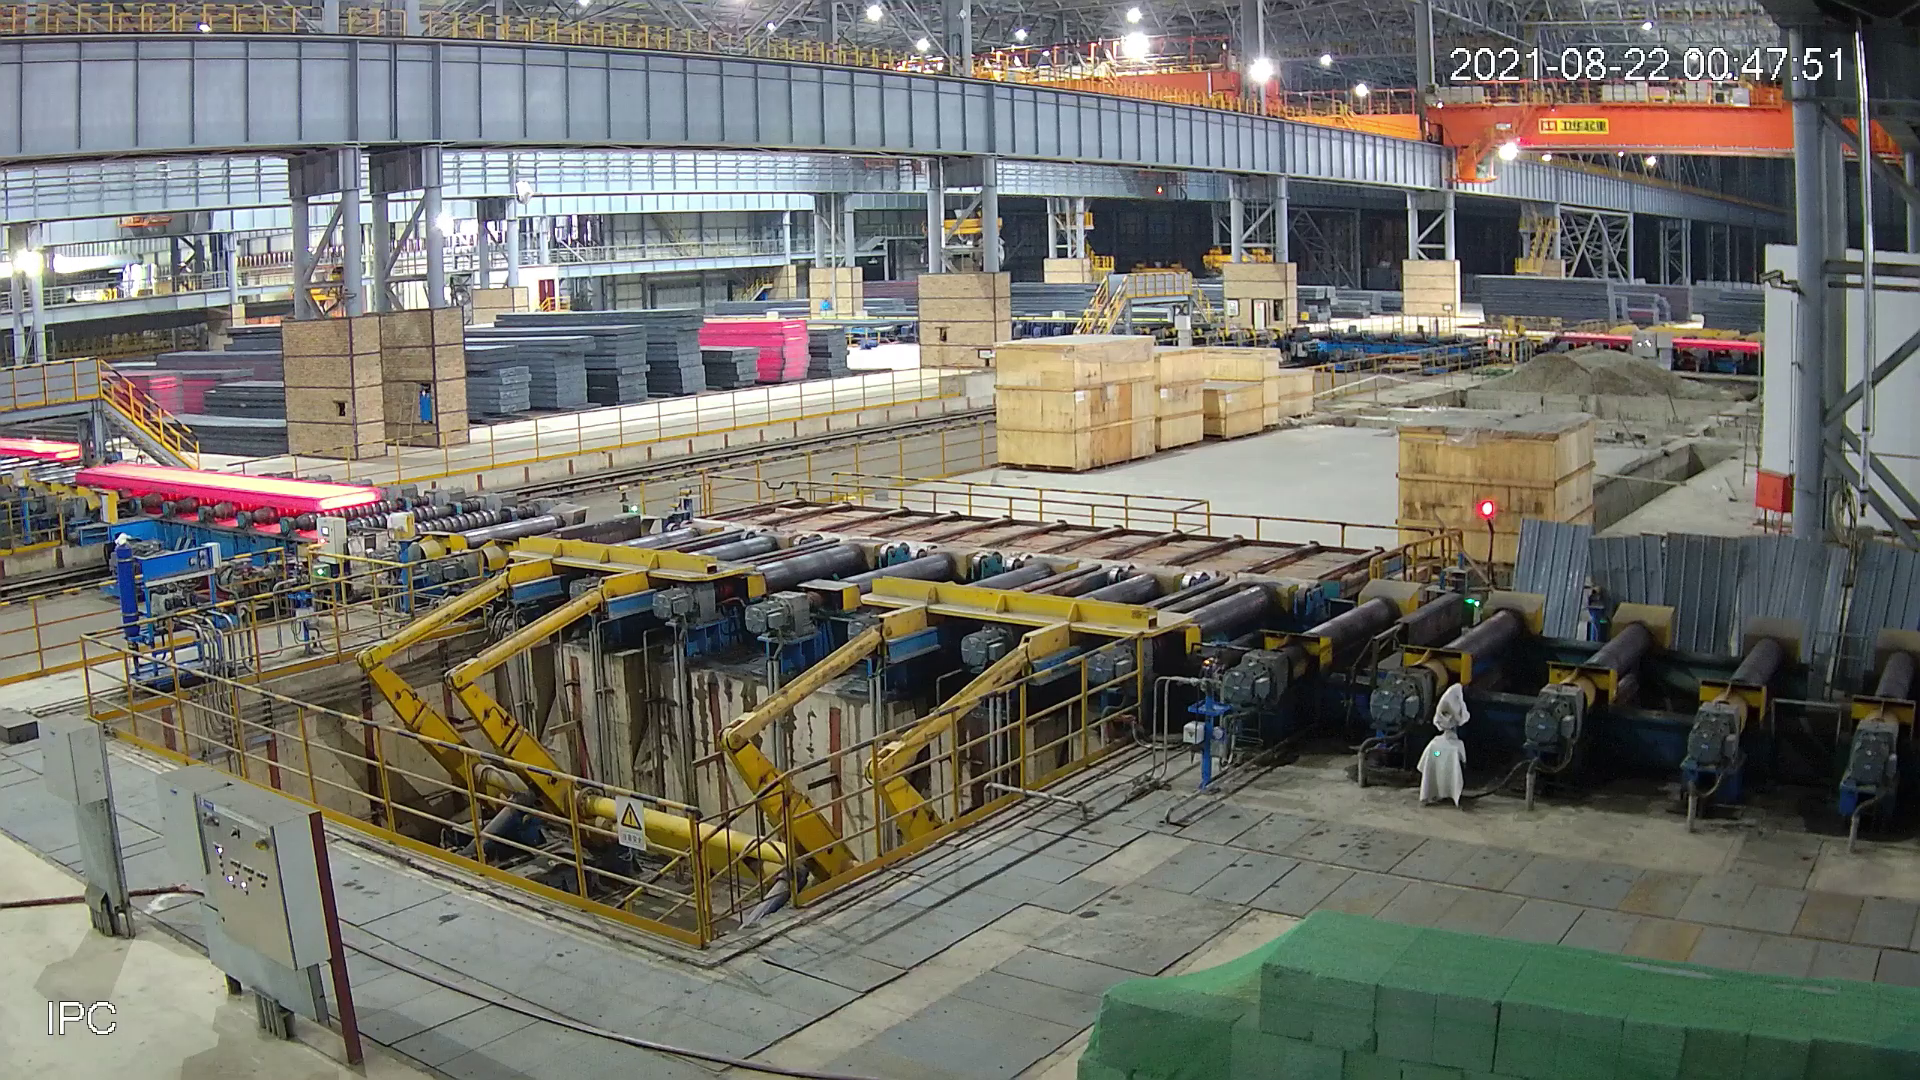slab: (73, 459, 385, 513)
